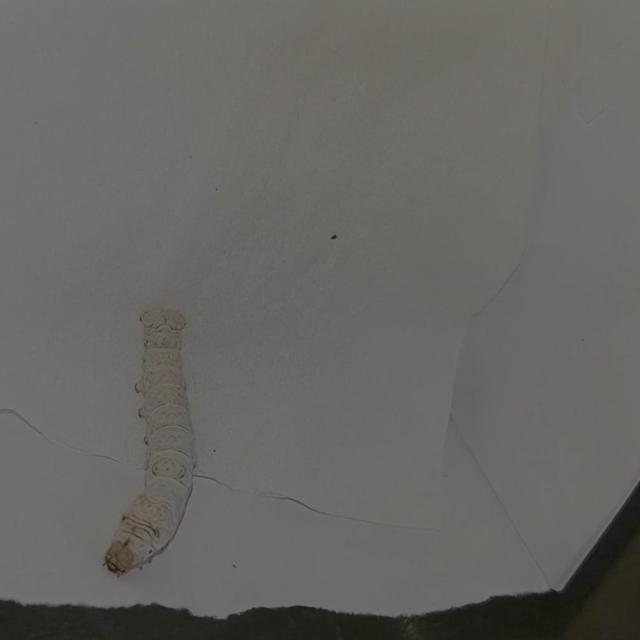Healthy: (78, 283, 283, 598)
